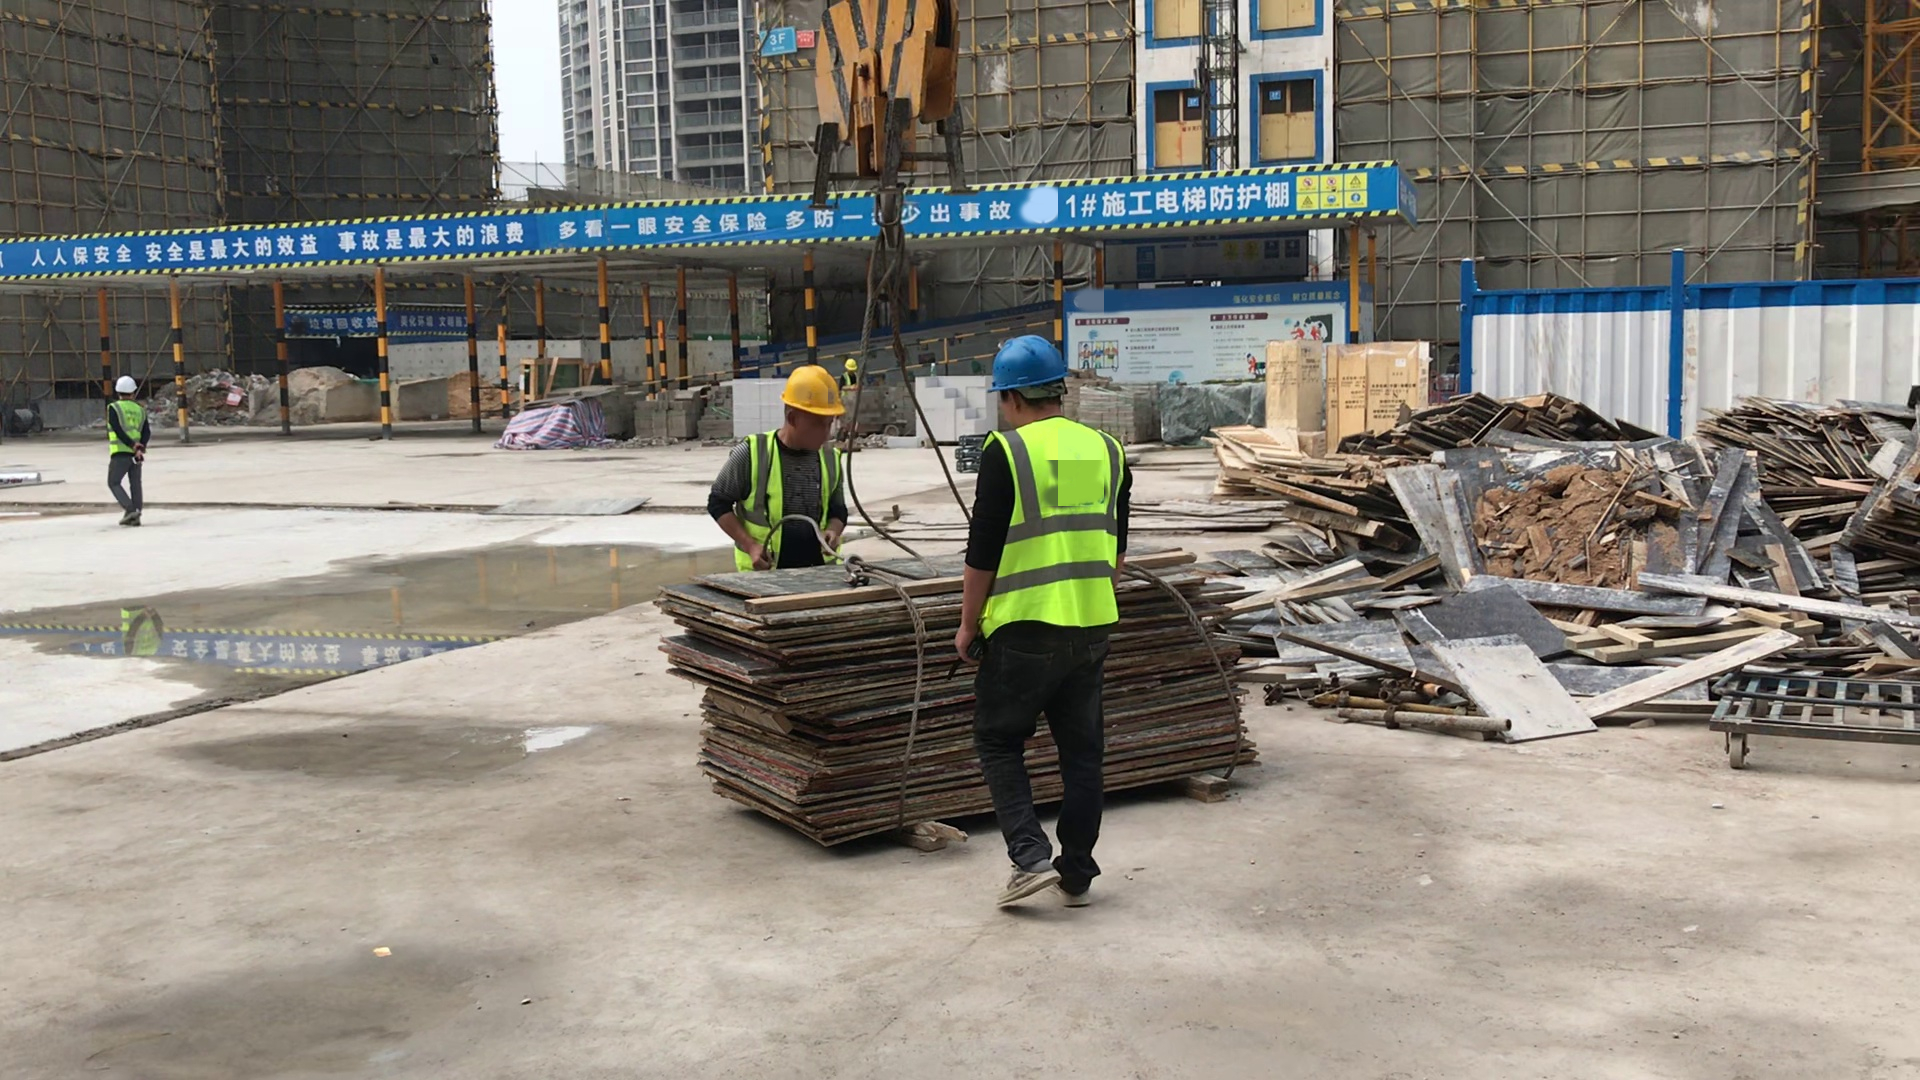board: (657, 566, 1291, 847)
brick: (918, 374, 993, 443), (733, 379, 788, 435)
helmet: (985, 338, 1070, 394), (780, 365, 841, 419), (114, 374, 136, 393), (845, 357, 859, 371)
hook: (810, 1, 978, 250)
person: (951, 337, 1130, 917), (706, 365, 851, 567), (101, 374, 154, 524), (837, 357, 866, 383)
slogan: (25, 216, 526, 268), (558, 201, 1007, 242), (1294, 173, 1378, 213), (394, 311, 469, 338)
vest: (981, 417, 1125, 635), (737, 434, 839, 568), (109, 401, 147, 454)
